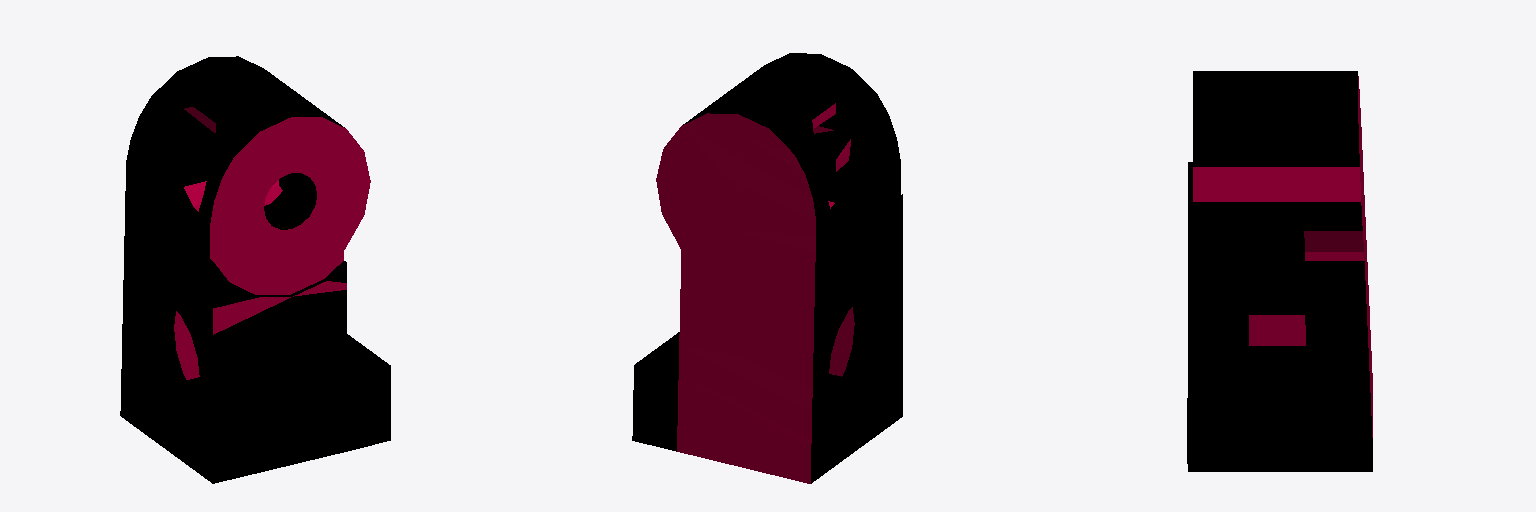
The picture shows the model from 3 angles: view 1: azimuth 30°, elevation 25°; view 2: azimuth 150°, elevation 25°; view 3: azimuth 270°, elevation 25°; orthographic projection.
Visible parts, largest first — view 1: pasted__pasted__lleg1 pasted__pasted__legocharacter4 pasted__gro; view 2: pasted__pasted__lleg1 pasted__pasted__legocharacter4 pasted__gro; view 3: pasted__pasted__lleg1 pasted__pasted__legocharacter4 pasted__gro.
Part boxes in pixels (left/top/right/bottom): pasted__pasted__lleg1 pasted__pasted__legocharacter4 pasted__gro: left=120, top=56, right=390, bottom=483; pasted__pasted__lleg1 pasted__pasted__legocharacter4 pasted__gro: left=632, top=53, right=902, bottom=483; pasted__pasted__lleg1 pasted__pasted__legocharacter4 pasted__gro: left=1187, top=71, right=1372, bottom=471.
Bounding box in the file's own units: 0.7995 × 1.48 × 0.7228.
Materials: 1 (1 with a texture image).